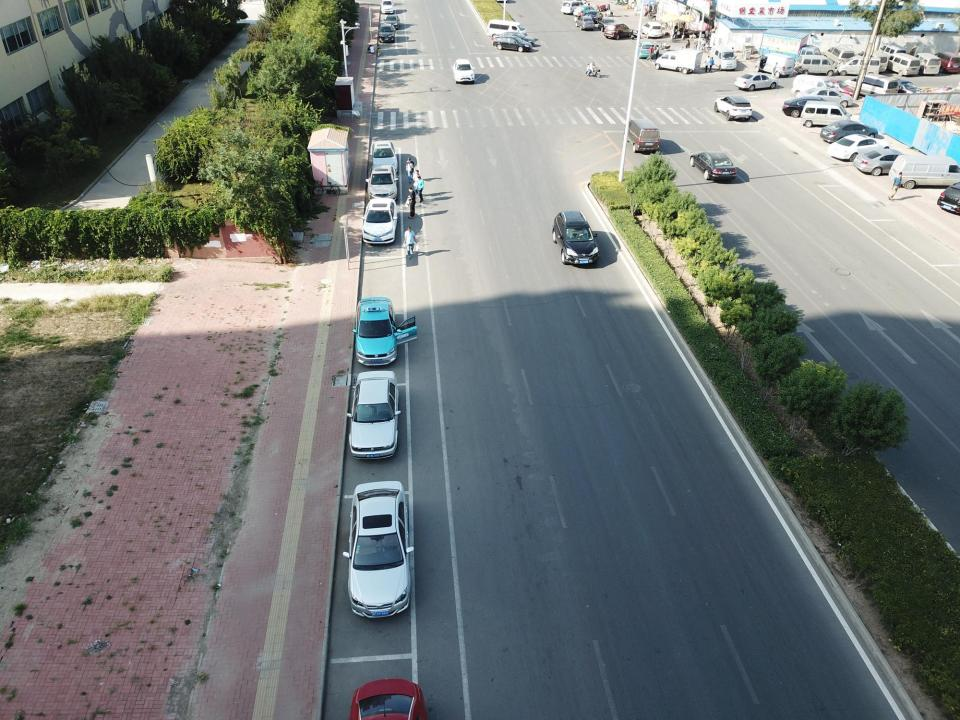car: (342, 481, 414, 618), (347, 370, 401, 459), (352, 297, 417, 365), (553, 210, 599, 264), (826, 134, 892, 162), (853, 149, 914, 176), (361, 198, 397, 243), (690, 150, 736, 180), (782, 96, 846, 117), (820, 120, 877, 143), (365, 164, 398, 202), (623, 119, 660, 152), (800, 87, 854, 107), (884, 76, 926, 100), (714, 95, 752, 121), (370, 140, 398, 172), (734, 72, 778, 92), (492, 35, 532, 52), (451, 59, 475, 84), (604, 22, 630, 40), (634, 42, 654, 60), (378, 24, 396, 42), (384, 14, 400, 30), (574, 5, 597, 16), (576, 16, 594, 30), (586, 10, 604, 22), (379, 0, 394, 13)
truck: (758, 28, 822, 66), (654, 49, 702, 74)
van: (888, 155, 960, 190), (800, 100, 851, 127), (844, 73, 898, 98), (790, 74, 840, 98), (754, 52, 794, 77), (794, 55, 836, 76), (837, 56, 881, 74), (886, 54, 920, 76), (856, 49, 888, 72), (709, 44, 737, 70), (823, 46, 854, 69), (487, 19, 526, 37), (914, 52, 941, 76), (935, 52, 960, 73), (878, 44, 906, 61), (561, 0, 589, 15), (642, 22, 663, 38)
